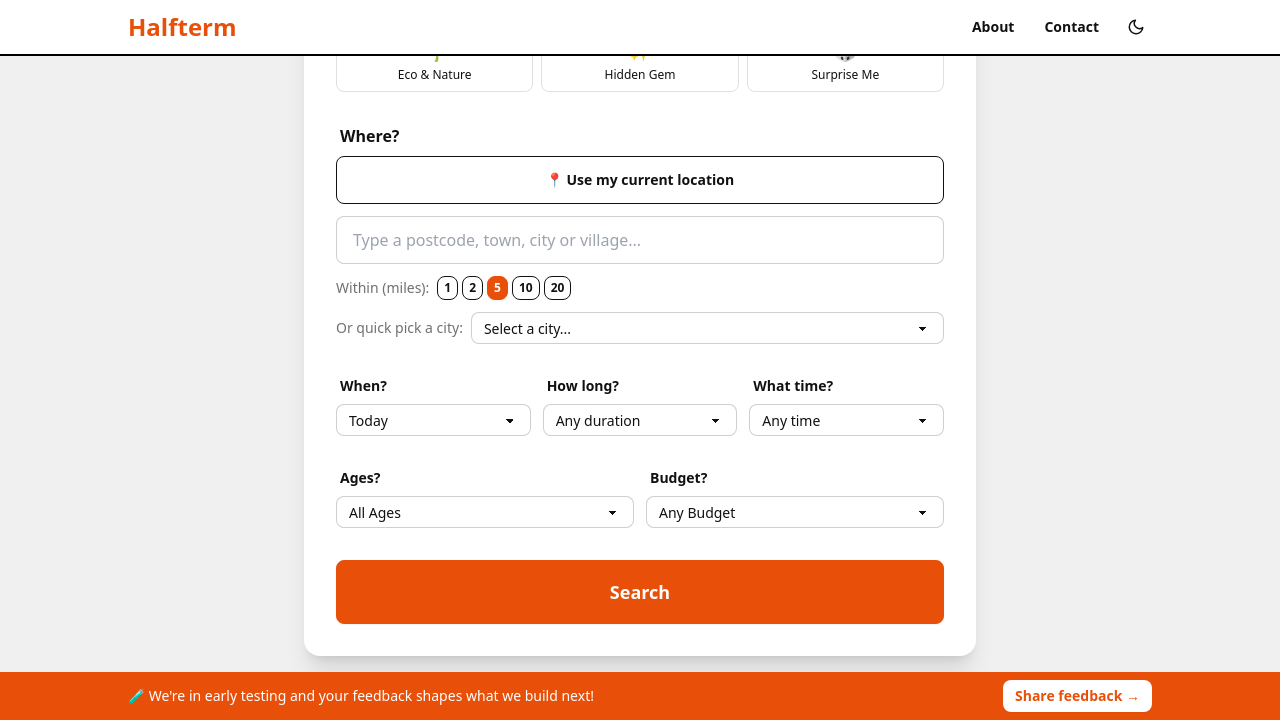
Test: App › shows custom time inputs when custom time is selected
The width and height of the screenshot is (1280, 720).
(page scrolled)
Select "Custom time range..." in the dropdown showing "Any time" below "What time?". click: [847, 420]
box: top-left (749, 404), bottom-right (944, 436)
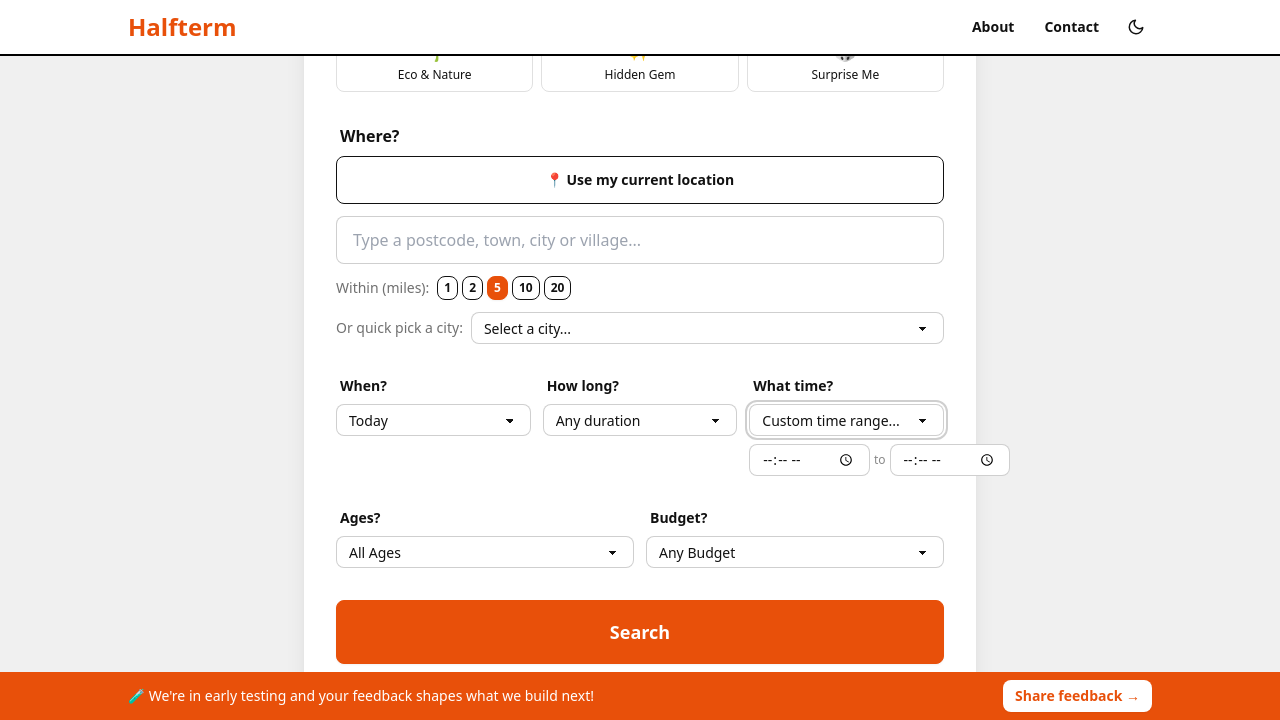
Now the text "to" is shown, box top-left (874, 452), bottom-right (886, 468)
